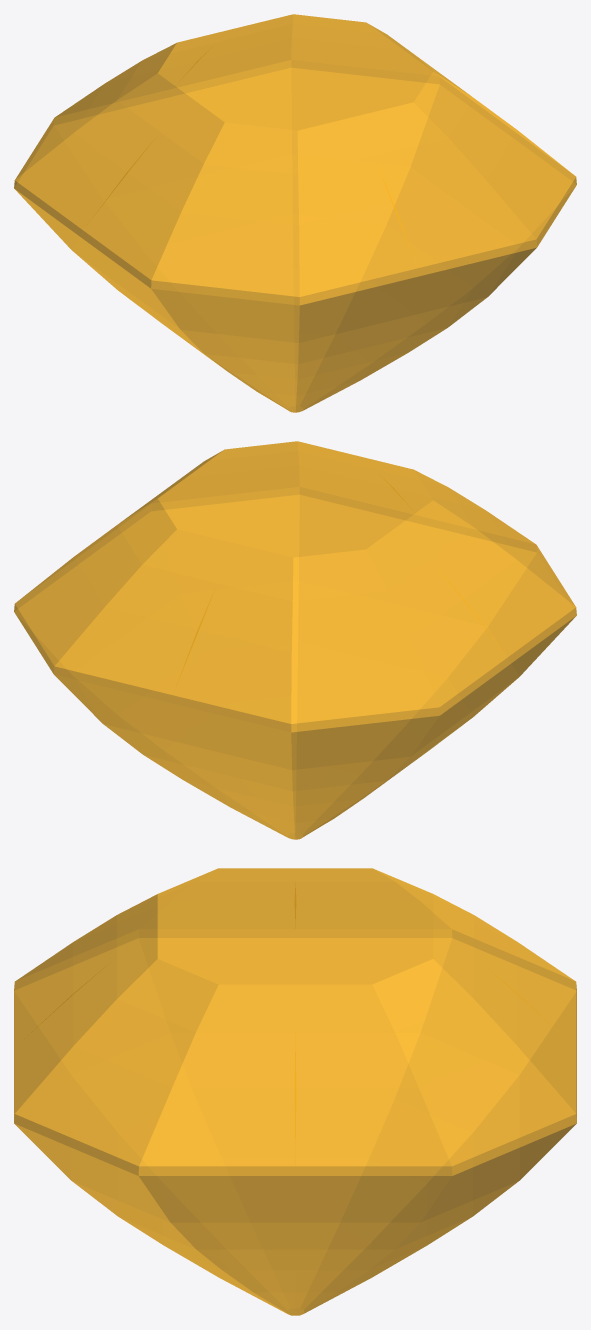
Rendered from assher citrine.glb.
3 views of the same model, one above another, from view 1: azimuth 30°, elevation 25°; view 2: azimuth 150°, elevation 25°; view 3: azimuth 270°, elevation 25° (orthographic). The views are drawn at different scales.
Parts seen in each view (by area): view 1: Asscher.001; view 2: Asscher.001; view 3: Asscher.001.
Boxes of the visible parts, <box> form: Asscher.001: <box>14,14,576,412</box>; Asscher.001: <box>14,441,576,839</box>; Asscher.001: <box>14,868,576,1315</box>.
Size of the model in its own units: 1.5 by 1.14 by 1.5.
